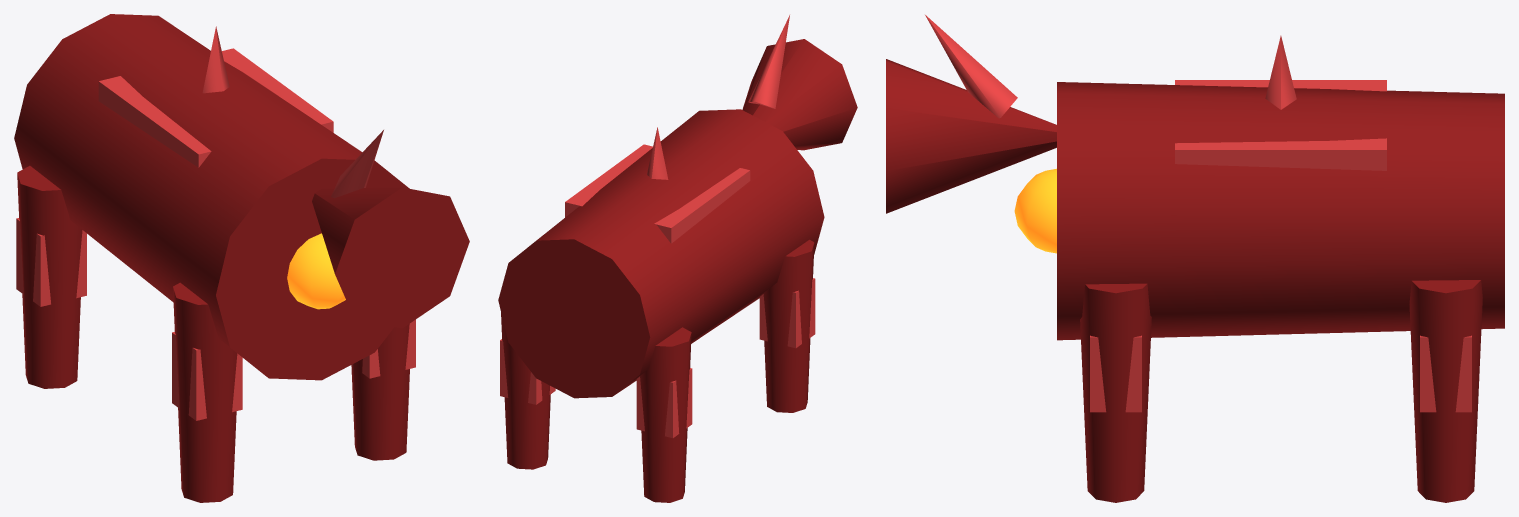
File: mount_fenrir_red.glb
3 views of the same model, side by side, from view 1: azimuth 30°, elevation 25°; view 2: azimuth 150°, elevation 25°; view 3: azimuth 270°, elevation 25° (orthographic). The views are drawn at different scales.
Parts seen in each view (by area): view 1: MOUNT_FENRIR_RED; view 2: MOUNT_FENRIR_RED; view 3: MOUNT_FENRIR_RED.
Part boxes in pixels (x1,y1,x2,y2): MOUNT_FENRIR_RED: [14, 14, 469, 502]; MOUNT_FENRIR_RED: [498, 15, 857, 502]; MOUNT_FENRIR_RED: [886, 15, 1504, 502].
Bounding box in the file's own units: 1.22 × 2.02 × 2.62.
